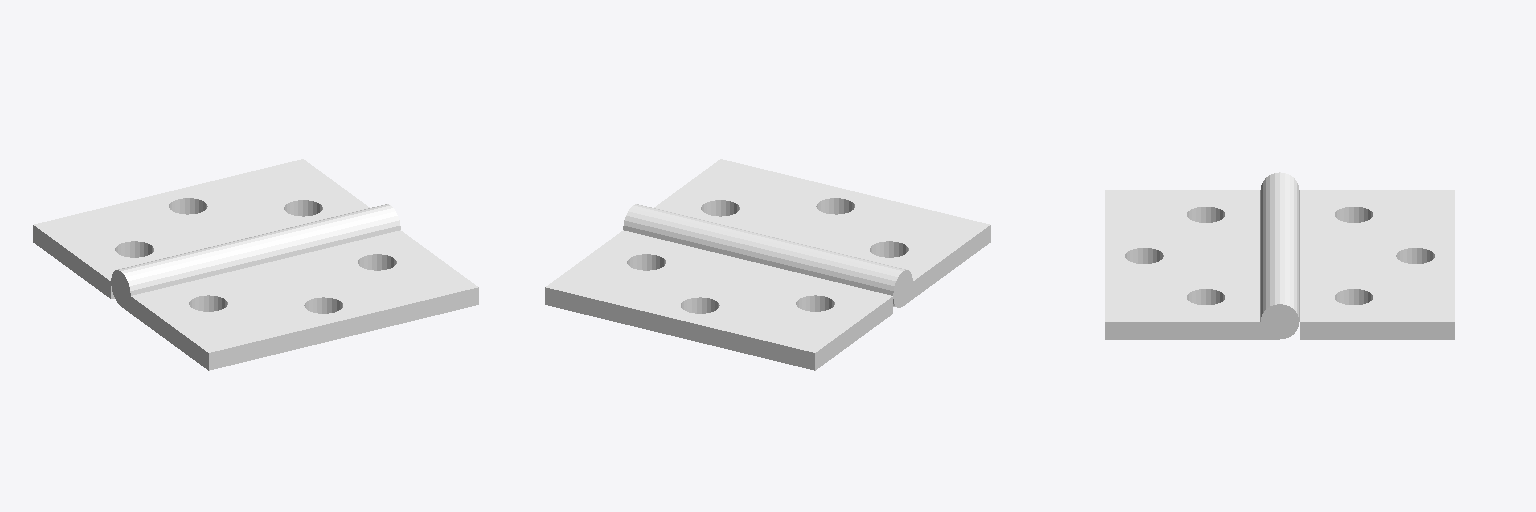
The model's file is Hinges_1.obj.
The picture shows the model from 3 angles: view 1: azimuth 30°, elevation 25°; view 2: azimuth 150°, elevation 25°; view 3: azimuth 270°, elevation 25°; orthographic projection.
Parts seen in each view (by area): view 1: Hinges_1_g_4491-Default_Material, Hinges_1_g_4490-Default_Material; view 2: Hinges_1_g_4490-Default_Material, Hinges_1_g_4491-Default_Material; view 3: Hinges_1_g_4491-Default_Material, Hinges_1_g_4490-Default_Material.
Boxes of the visible parts, box(x1,y1,x2,y2) form: Hinges_1_g_4491-Default_Material: box(111, 204, 478, 370); Hinges_1_g_4490-Default_Material: box(33, 159, 369, 298); Hinges_1_g_4490-Default_Material: box(545, 217, 892, 370); Hinges_1_g_4491-Default_Material: box(623, 159, 990, 307); Hinges_1_g_4491-Default_Material: box(1105, 172, 1299, 339); Hinges_1_g_4490-Default_Material: box(1260, 190, 1454, 339).
Size of the model in its own units: 1.02 by 0.1273 by 1.14.